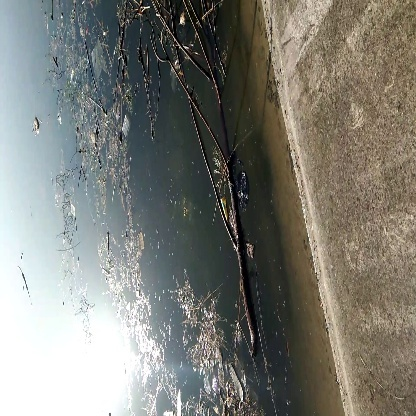branch: (190, 89, 261, 360)
